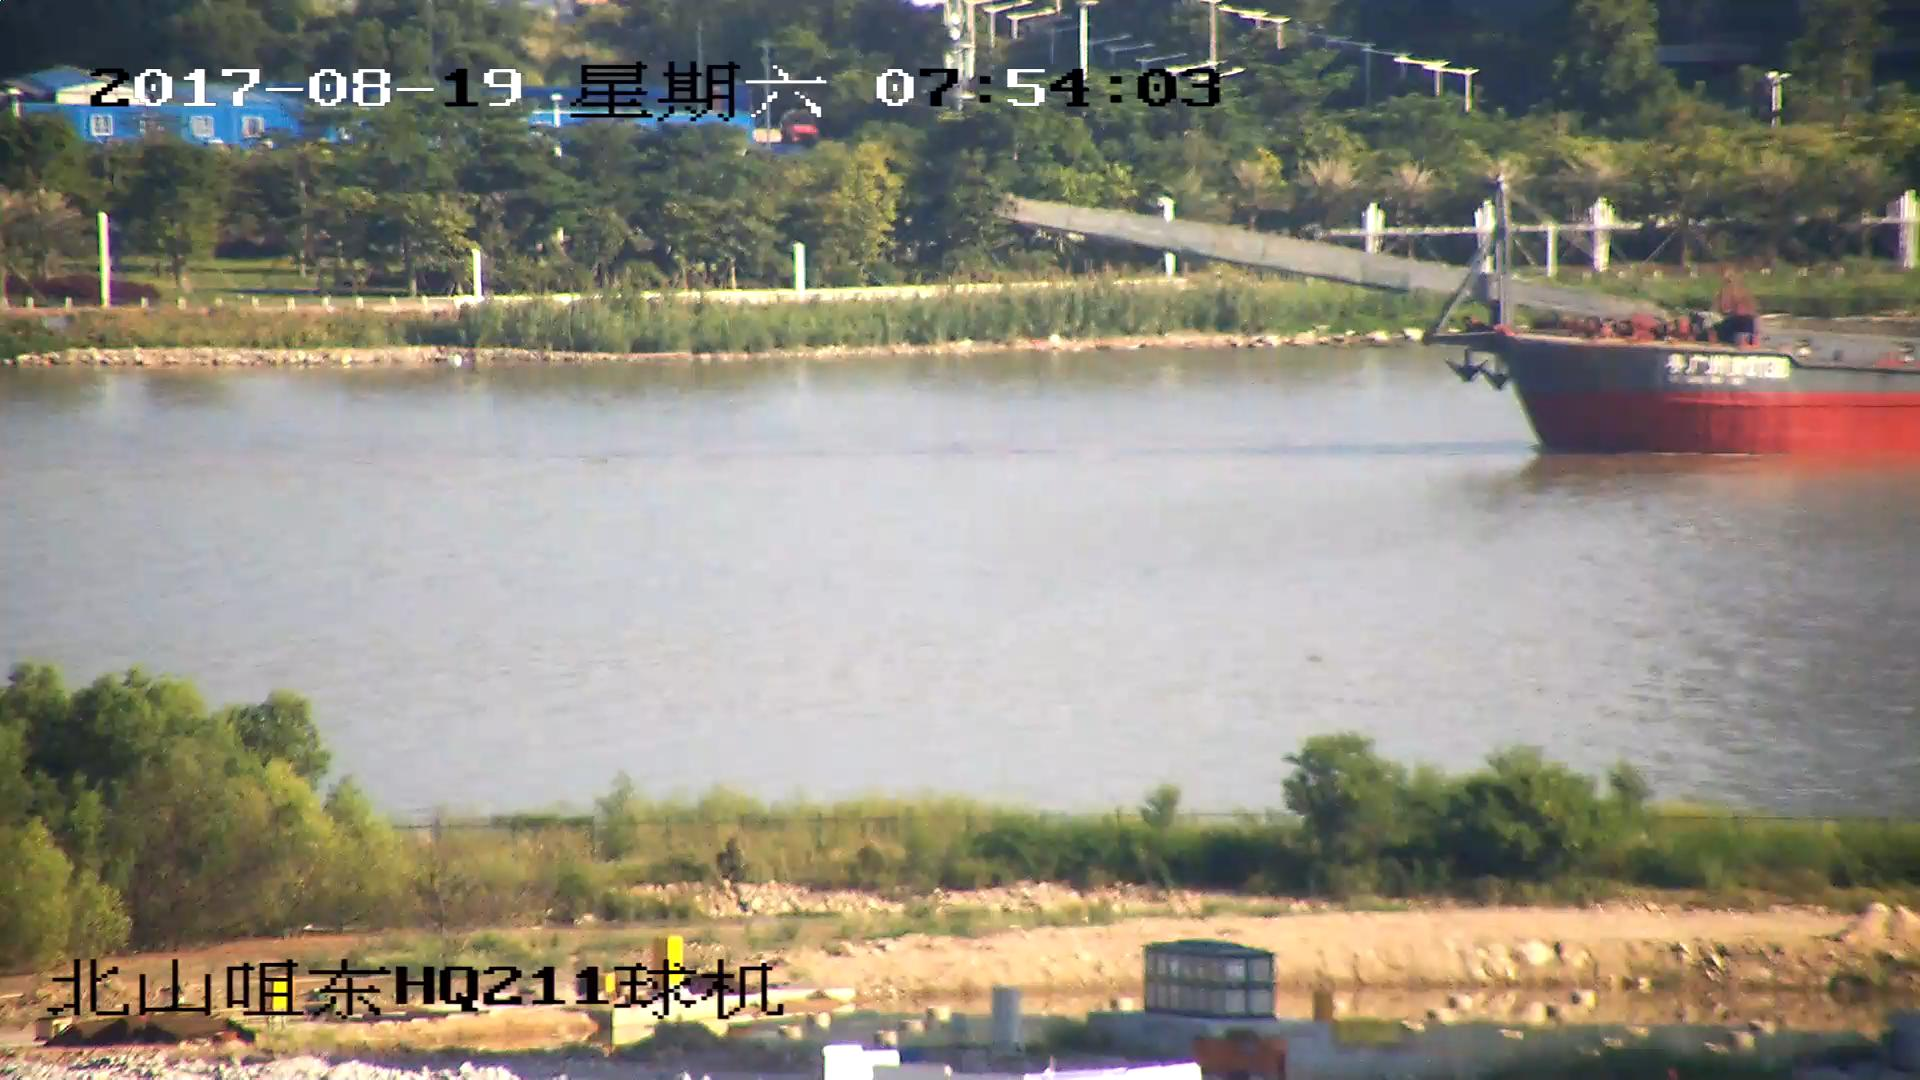bulk cargo carrier: (994, 193, 1920, 458)
